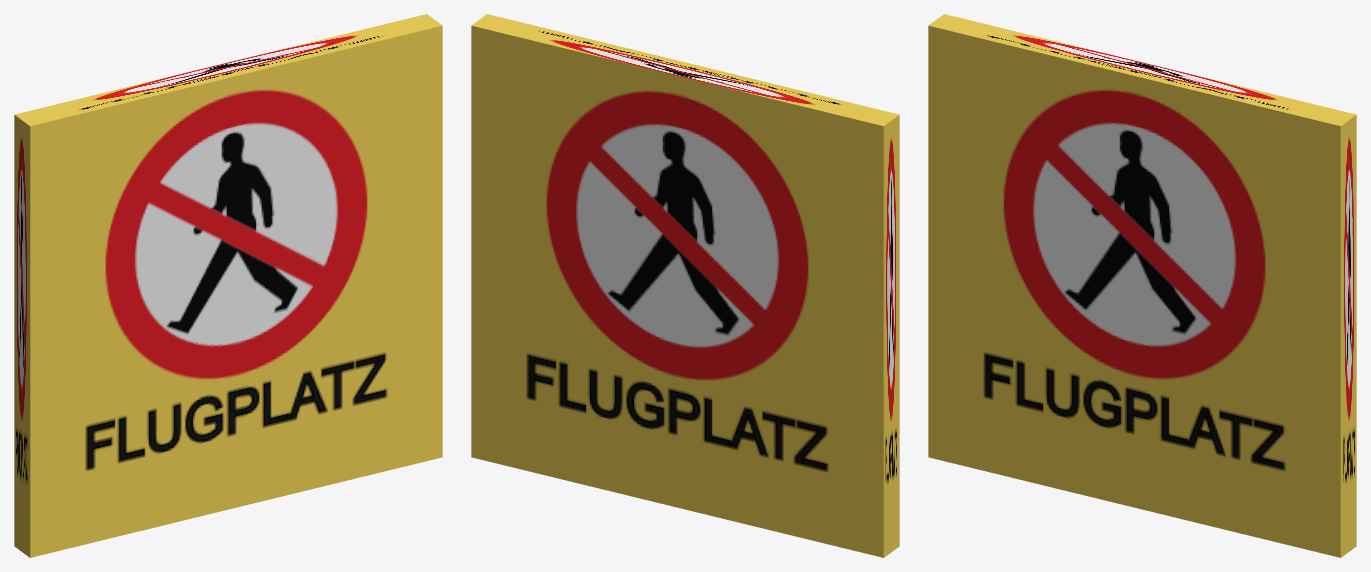
Rendered from FlugplatzSign_LOD02.gltf.
3 renders of one model, left to right at view 1: azimuth 30°, elevation 25°; view 2: azimuth 150°, elevation 25°; view 3: azimuth 330°, elevation 25°, orthographic.
Parts seen in each view (by area): view 1: Cube.003; view 2: Cube.003; view 3: Cube.003.
Part boxes in pixels (x1=…): Cube.003: x1=14, y1=14, x2=442, y2=557; Cube.003: x1=471, y1=14, x2=899, y2=557; Cube.003: x1=928, y1=14, x2=1356, y2=557.
Size of the model in its own units: 0.75 by 0.75 by 0.05.
